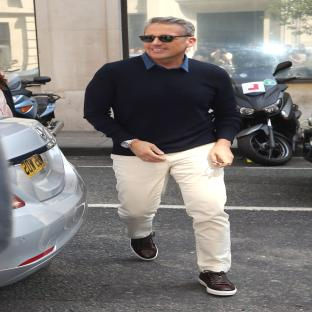Human: (84, 17, 242, 295)
